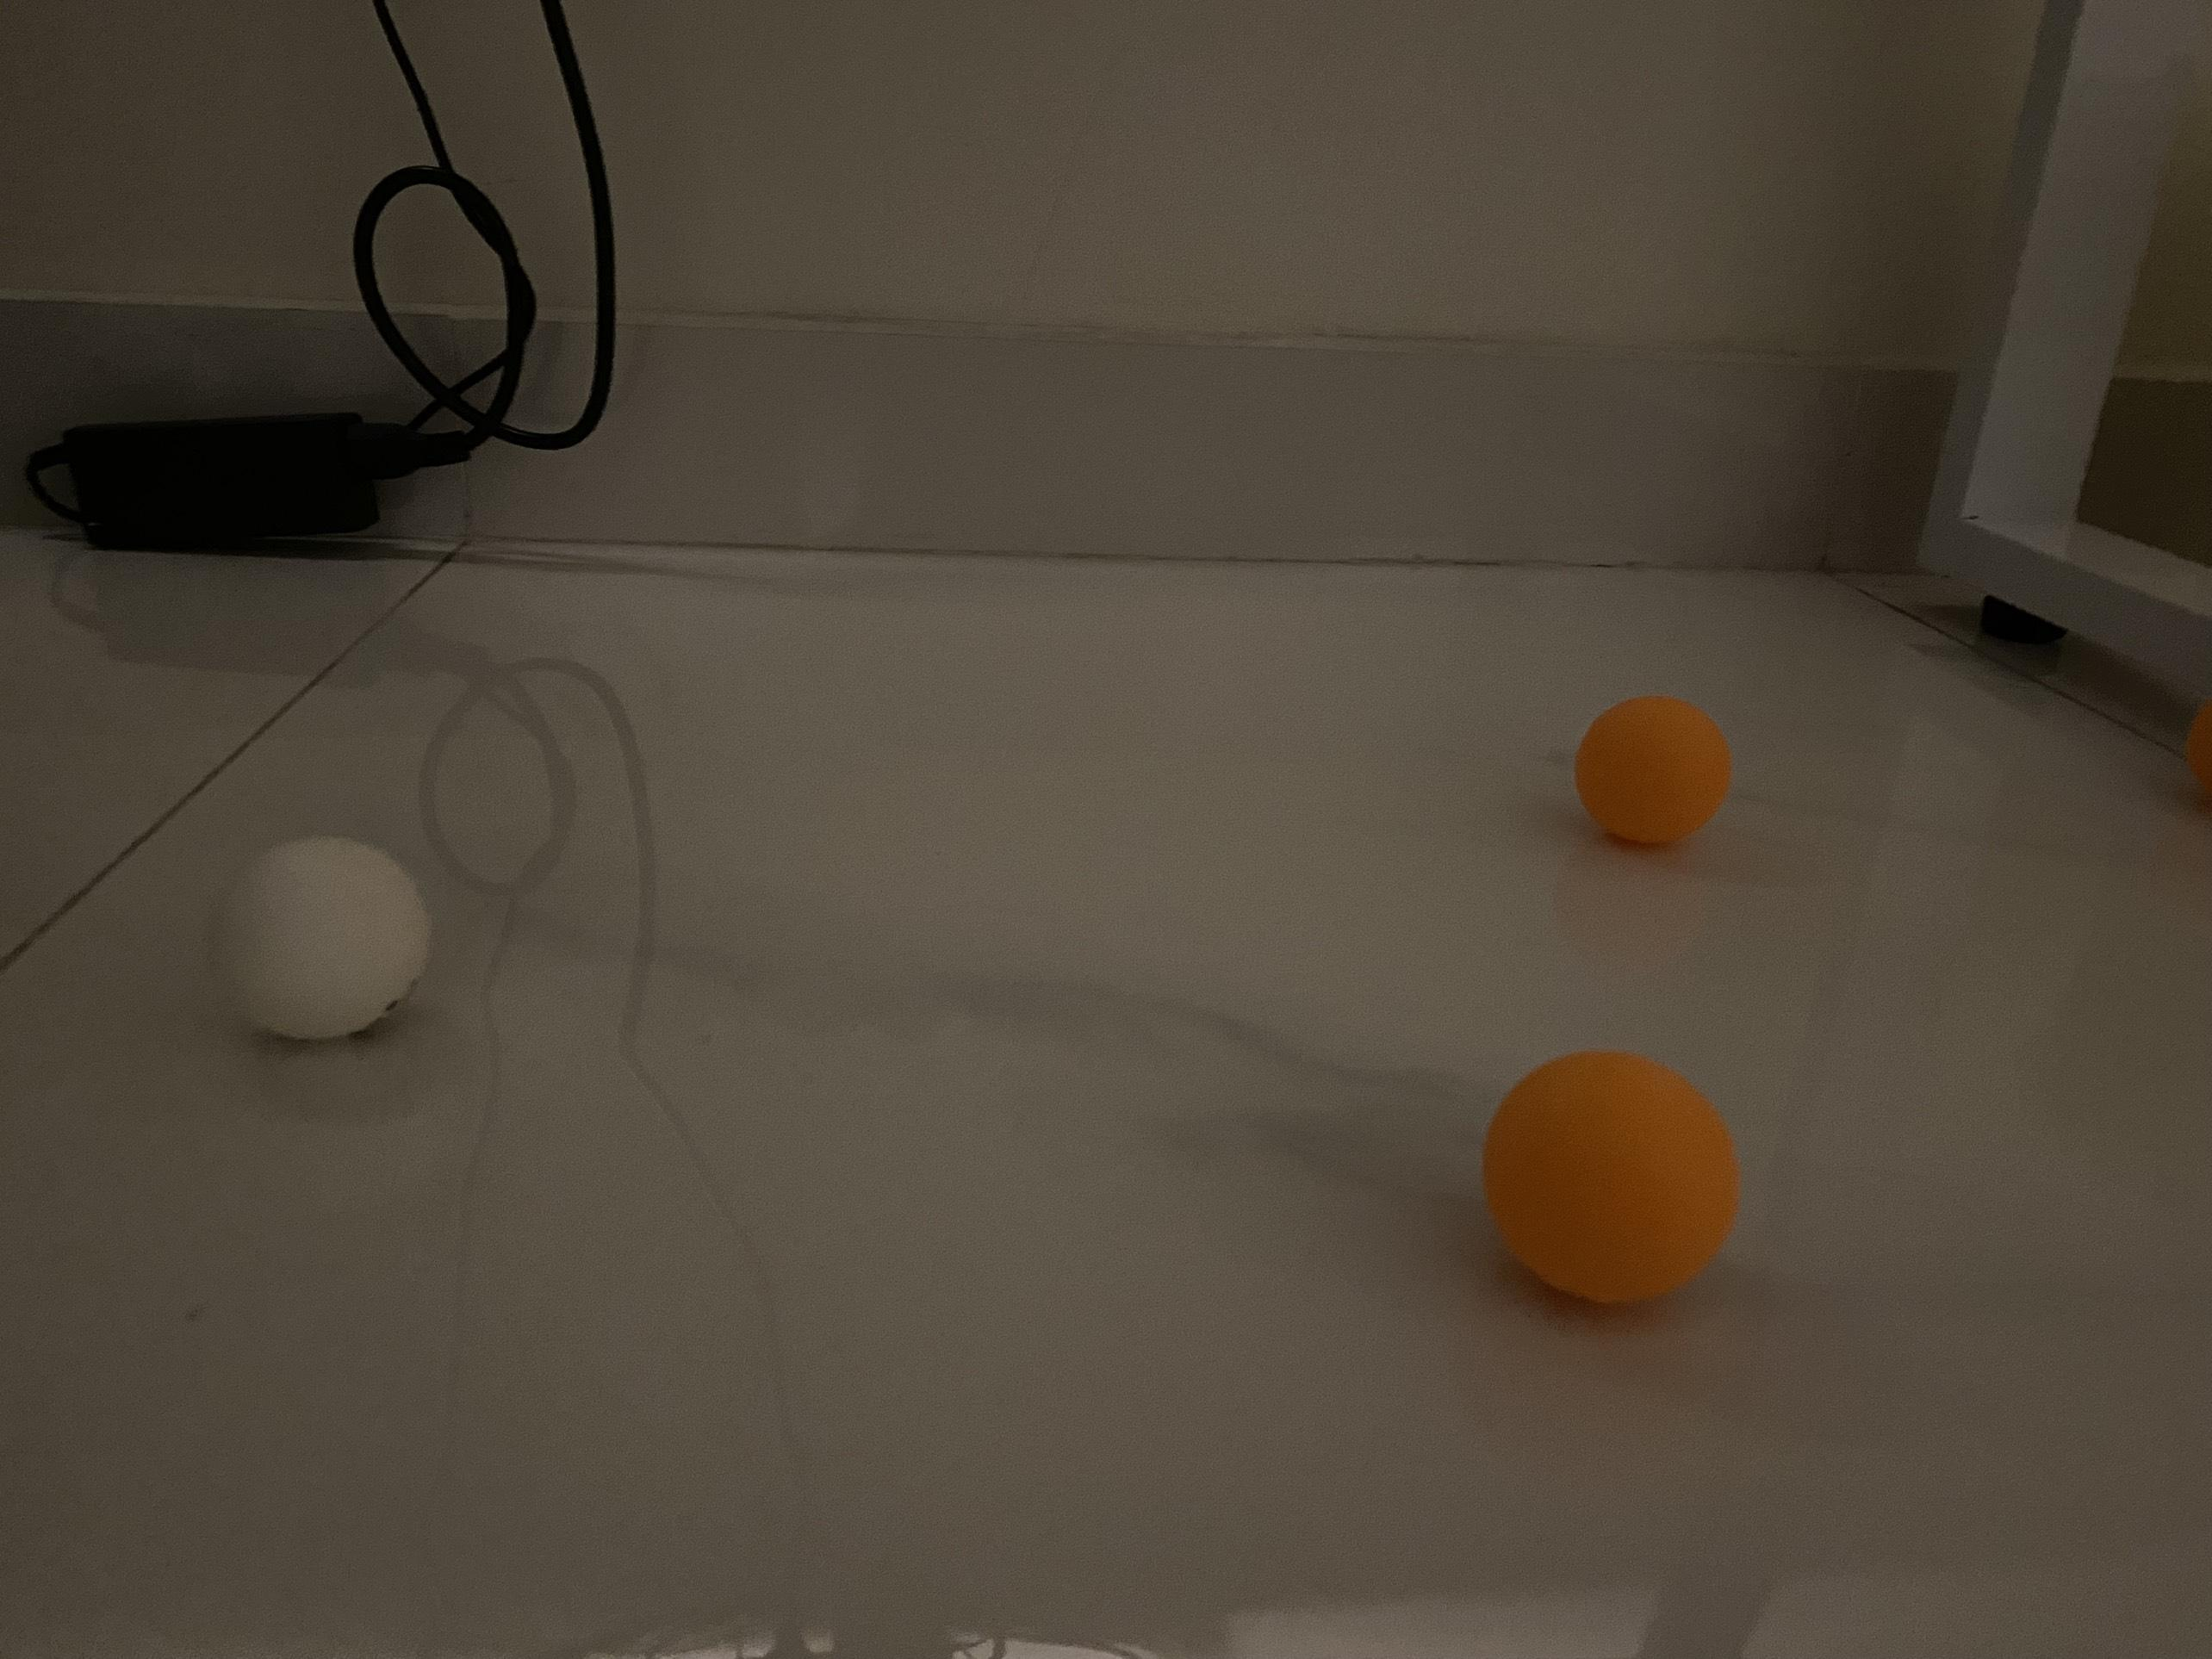oball: (1484, 1047, 1743, 1317), (1576, 687, 1737, 847)
